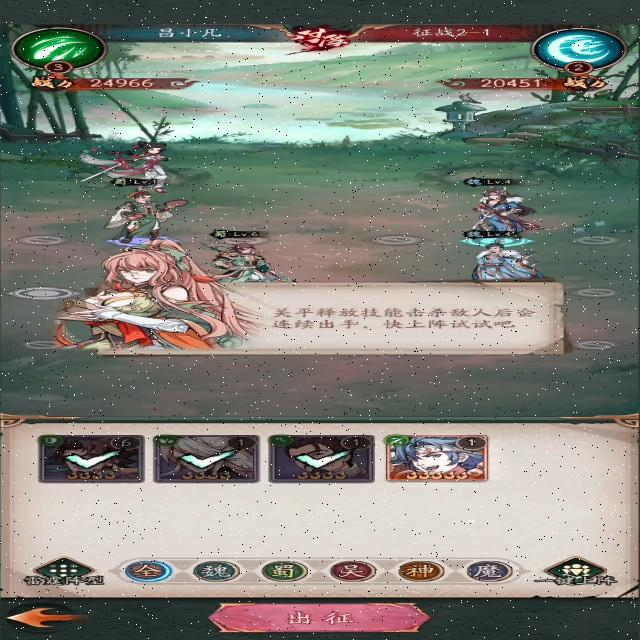hint-guide: (60, 243, 569, 359)
navigation-myHeroes: (33, 432, 147, 488), (264, 431, 378, 486), (382, 431, 498, 485), (149, 432, 263, 485)
operation-back: (5, 602, 94, 631)
operation-camp: (321, 559, 381, 583), (459, 558, 514, 584), (253, 558, 311, 582), (395, 557, 446, 583), (122, 559, 174, 583), (192, 559, 239, 582)
operation-confirm: (205, 601, 436, 634)
operation-deployment: (21, 555, 108, 589)
operation-oneKeyDeployment: (529, 556, 619, 587)
